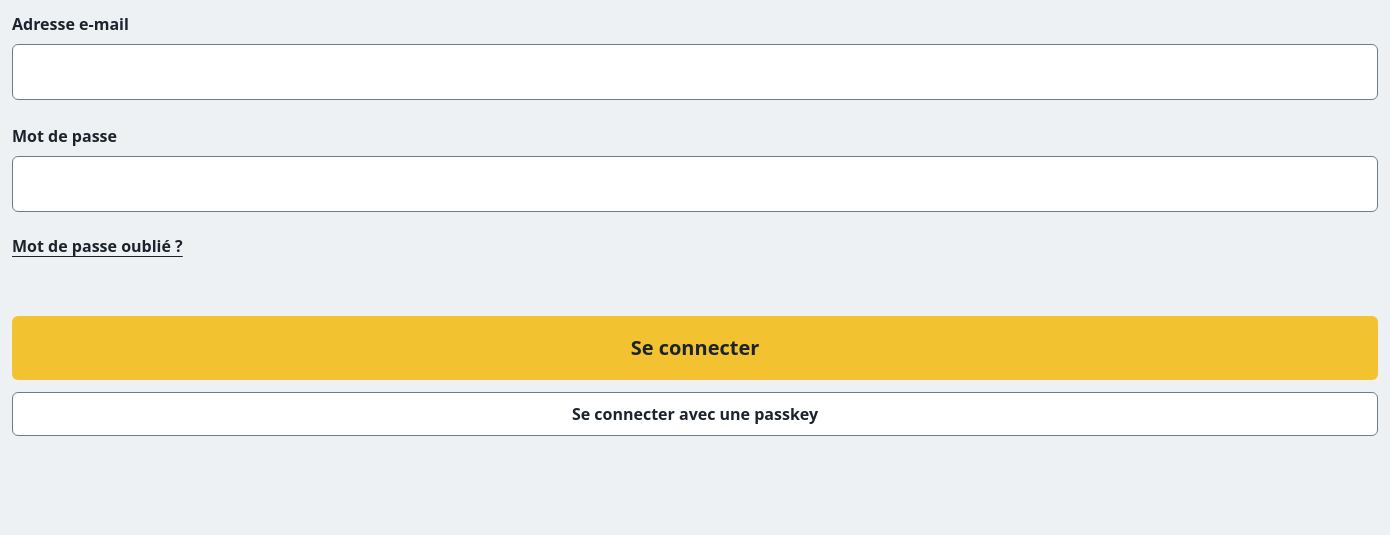
Test: LoginForm › n'envoie nulle part pour un parcours inconnu
The image size is (1390, 535).
Step 1. Type "membre@example.com" into the field labelled "Adresse e-mail" → (695, 72), box [12, 44, 1378, 100]
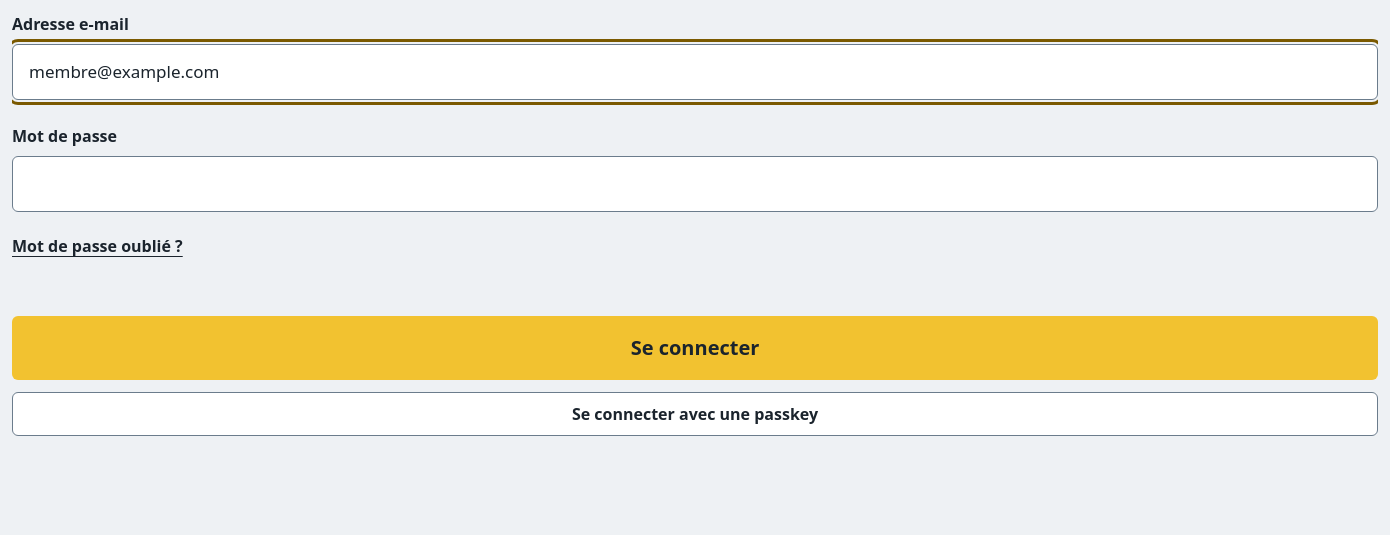
Step 2. Type "un-mot-de-passe" into the password field labelled "Mot de passe" → (695, 184), box [12, 156, 1378, 212]
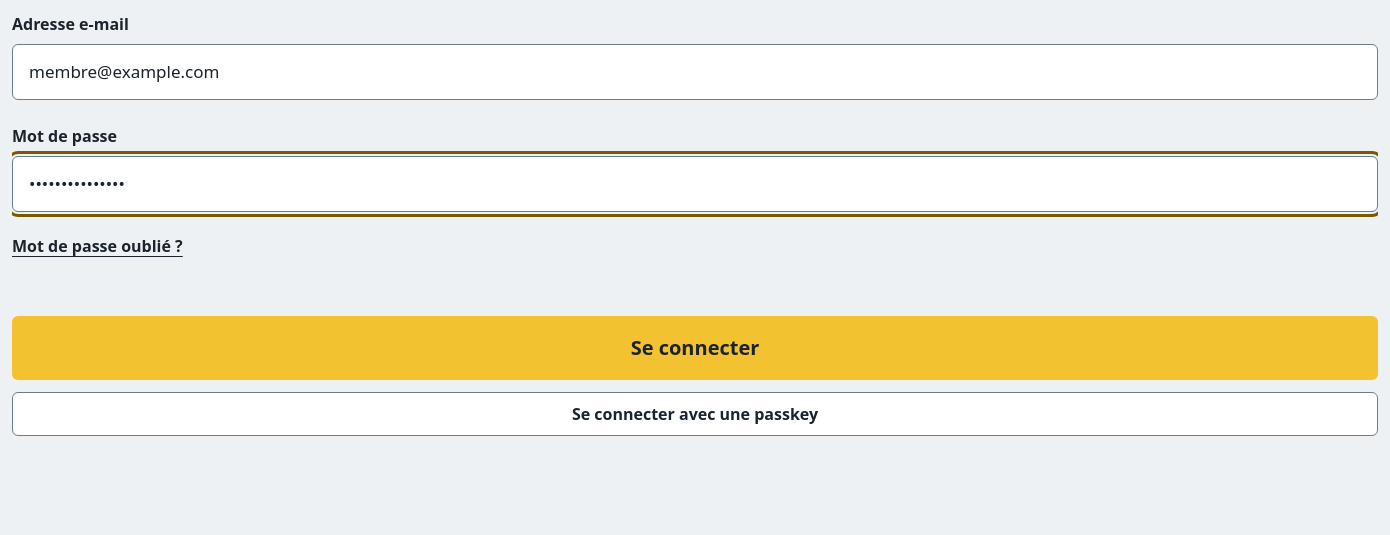
Step 3. Press Enter
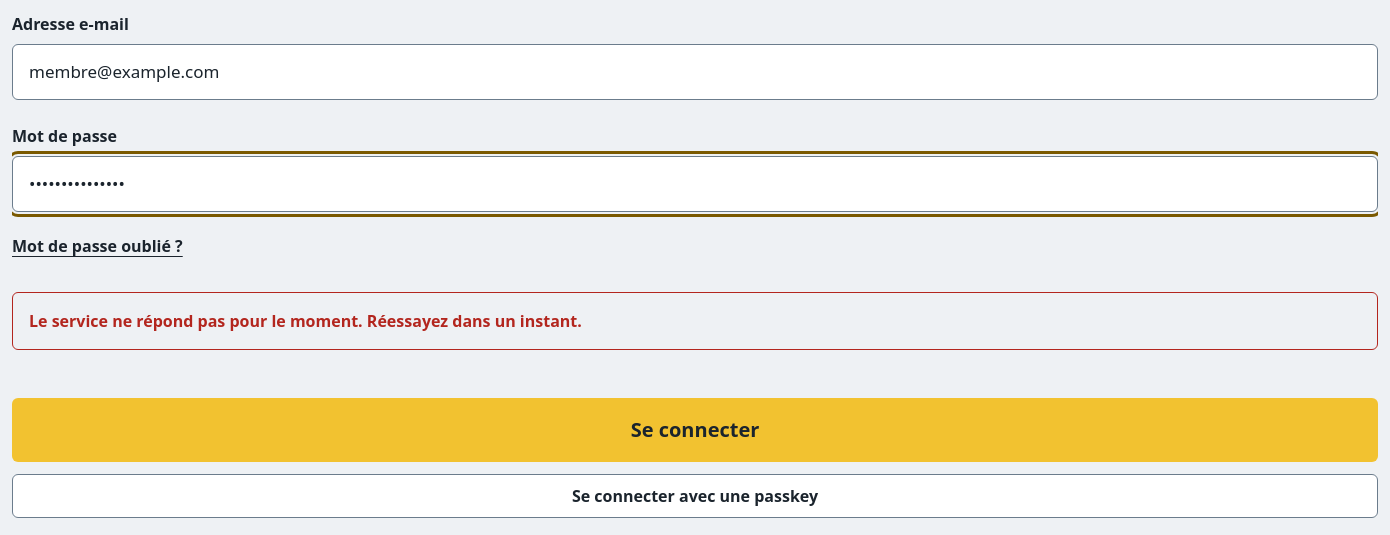
Result: the message shows "Le service ne répond pas pour le moment" at [29, 310, 582, 332]
